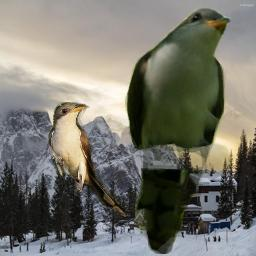Cuckoo: (125, 7, 231, 254), (48, 102, 129, 220)
